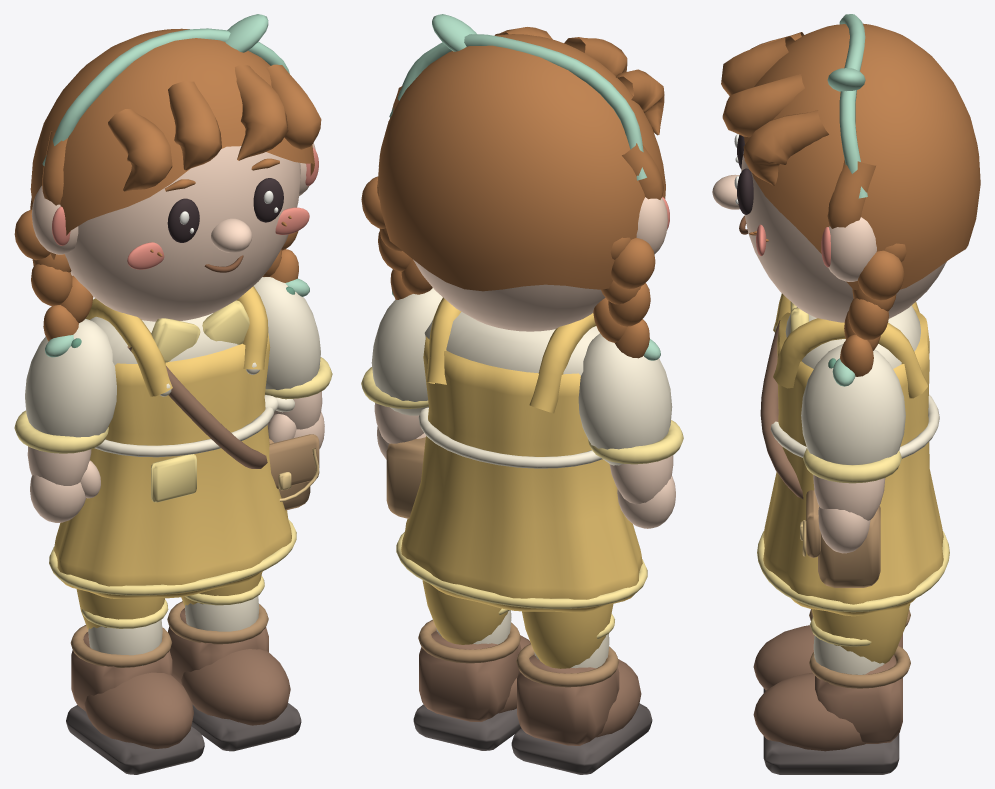
Rendered from Xiaosui.fbx.
The picture shows the model from 3 angles, left to right: view 1: azimuth 30°, elevation 25°; view 2: azimuth 150°, elevation 25°; view 3: azimuth 270°, elevation 25°; orthographic projection.
Parts seen in each view (by area): view 1: Xiaosui_BodyMesh, Xiaosui_LeftLegMesh, Xiaosui_RightLegMesh, Xiaosui_LeftArmMesh, Xiaosui_RightArmMesh; view 2: Xiaosui_BodyMesh, Xiaosui_LeftLegMesh, Xiaosui_RightLegMesh, Xiaosui_LeftArmMesh, Xiaosui_RightArmMesh; view 3: Xiaosui_BodyMesh, Xiaosui_RightLegMesh, Xiaosui_RightArmMesh, Xiaosui_LeftLegMesh.
Part boxes in pixels (x1,y1,x2,y2): Xiaosui_BodyMesh: [14, 14, 321, 598]; Xiaosui_LeftLegMesh: [66, 589, 204, 774]; Xiaosui_RightLegMesh: [167, 572, 301, 751]; Xiaosui_LeftArmMesh: [14, 319, 116, 522]; Xiaosui_RightArmMesh: [254, 277, 332, 448]; Xiaosui_BodyMesh: [361, 14, 669, 612]; Xiaosui_LeftLegMesh: [511, 604, 652, 774]; Xiaosui_RightLegMesh: [413, 580, 530, 750]; Xiaosui_LeftArmMesh: [578, 333, 683, 528]; Xiaosui_RightArmMesh: [361, 288, 442, 459]; Xiaosui_BodyMesh: [712, 14, 980, 616]; Xiaosui_RightLegMesh: [753, 603, 910, 774]; Xiaosui_RightArmMesh: [801, 344, 905, 553]; Xiaosui_LeftLegMesh: [753, 609, 910, 692].
Size of the model in its own units: 1.03 by 2.24 by 0.7737.
